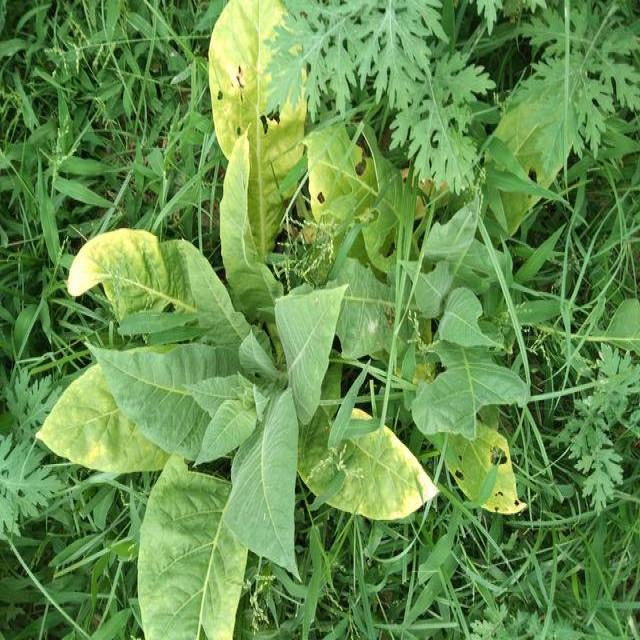crop: (34, 172, 477, 640)
